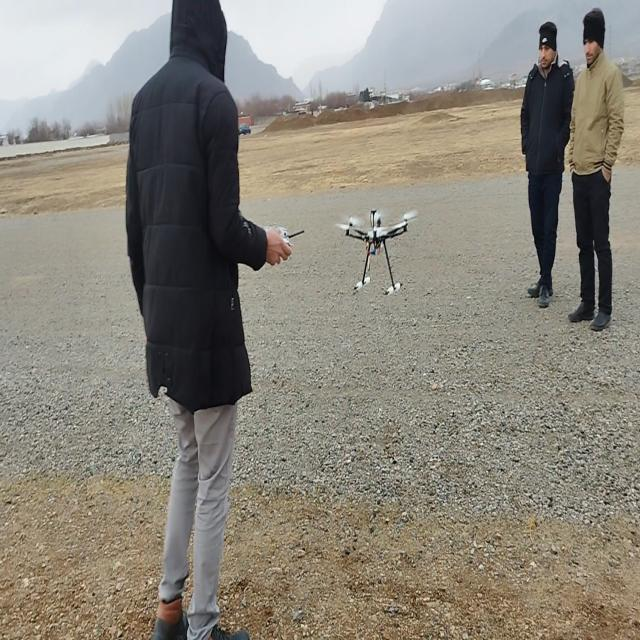drone: (334, 205, 419, 298)
